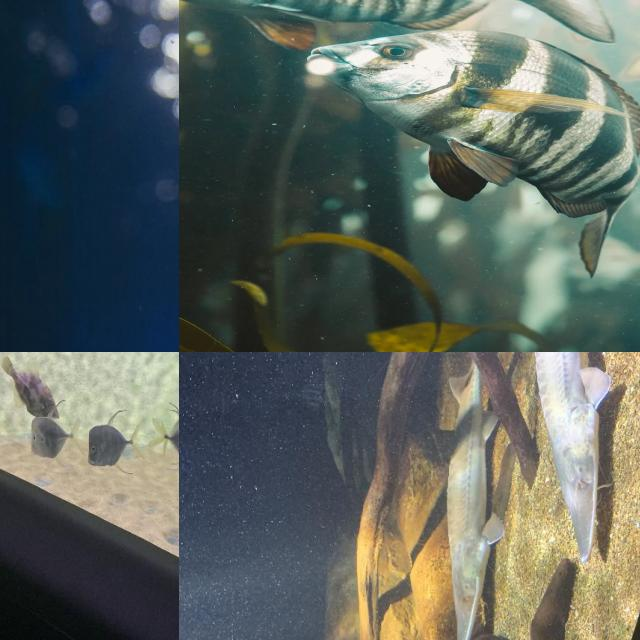fish: (179, 0, 557, 270), (0, 0, 179, 352), (443, 352, 505, 640)
